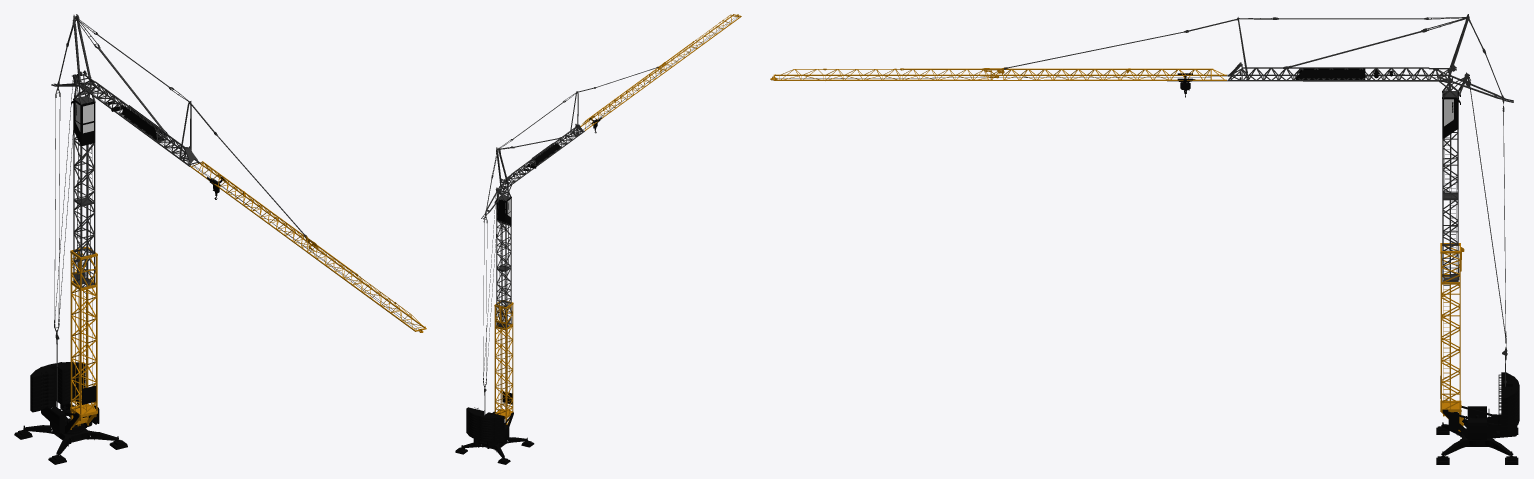
The model's file is Liebherr_81K.FBX.
3 renders of one model, left to right at view 1: azimuth 30°, elevation 25°; view 2: azimuth 150°, elevation 25°; view 3: azimuth 270°, elevation 25°, orthographic. The views are drawn at different scales.
Visible parts, largest first — view 1: Body, Window; view 2: Body; view 3: Body.
Boxes of the visible parts, x1,y1,x2,y2 form: Body: (14, 14, 426, 464); Window: (75, 101, 93, 133); Body: (455, 14, 741, 464); Body: (770, 14, 1519, 464).
Size of the model in its own units: 0.0553 by 0.3116 by 0.4894.
